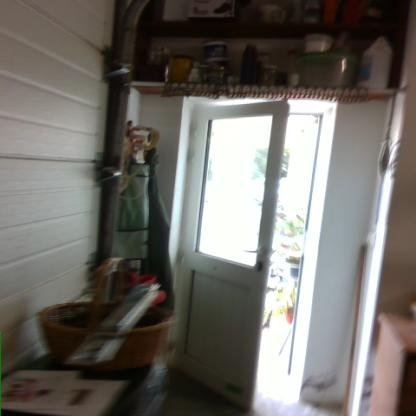semi: (178, 89, 340, 411)
